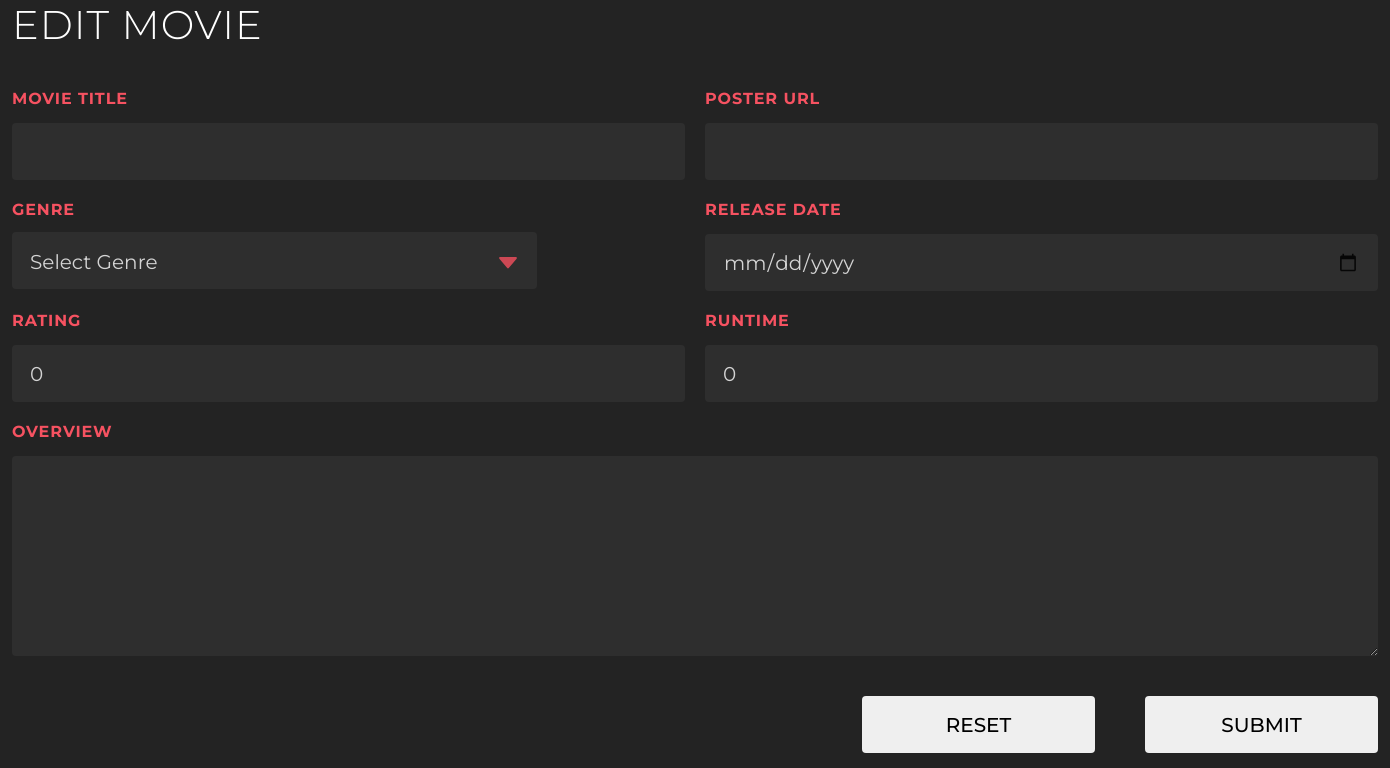
Test: MovieForm › should show an error message when a required field is empty
Click the button "Submit".
click(1262, 724)  # box [1145, 696, 1378, 753]
(page scrolled)
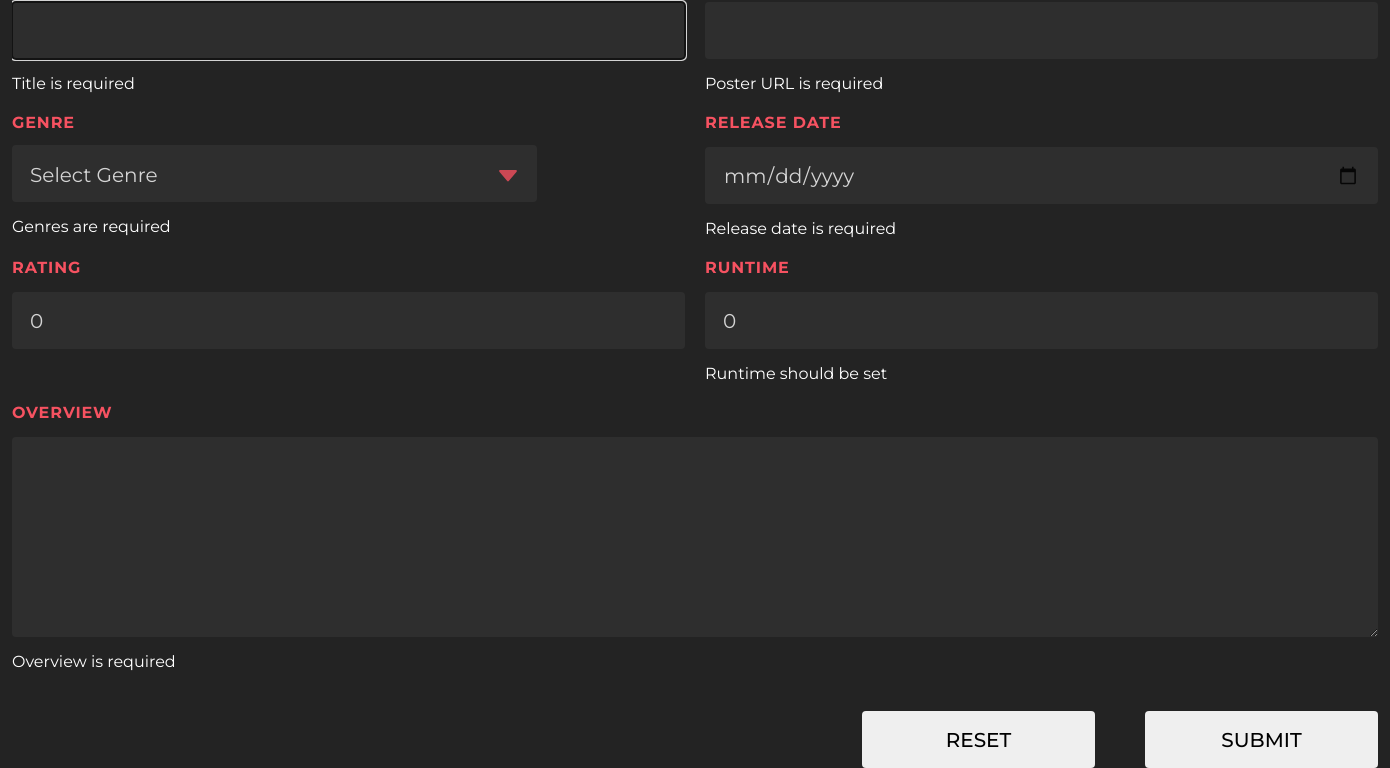
Expected: the text "Title is required" is shown, [12, 74, 135, 93]
Expected: the text "Poster URL is required" is shown, [705, 74, 883, 93]
Expected: the text "Genres are required" is shown, [12, 217, 171, 236]
